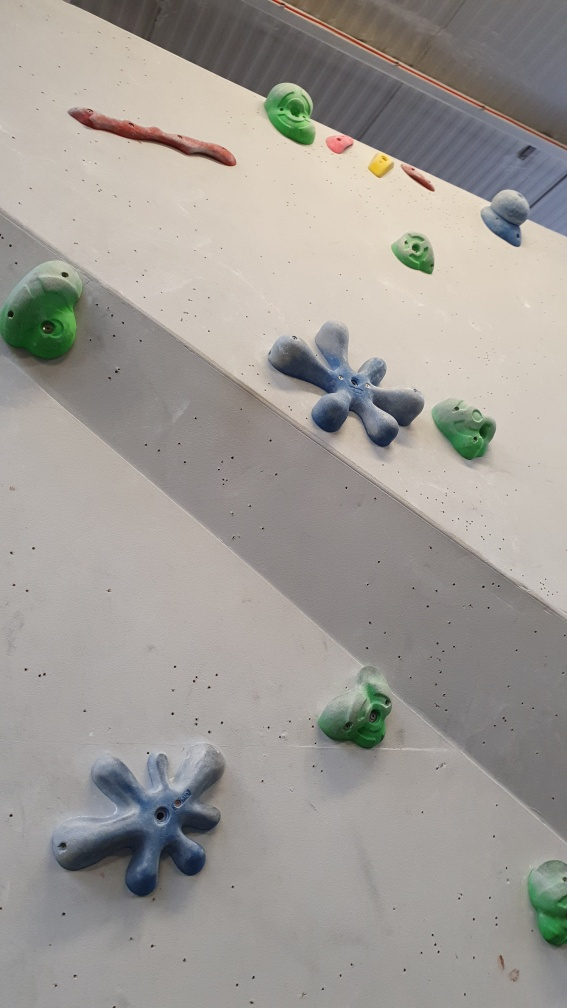Crimp: (399, 159, 438, 192), (323, 129, 359, 153)
Jug: (1, 256, 90, 363), (312, 662, 392, 751), (432, 394, 498, 468), (262, 78, 318, 153), (391, 231, 438, 278)
Octopus Pinch: (47, 740, 227, 899), (265, 319, 425, 449)
Pinch: (65, 98, 240, 170), (364, 147, 397, 182)
Sloper: (479, 190, 534, 247)
